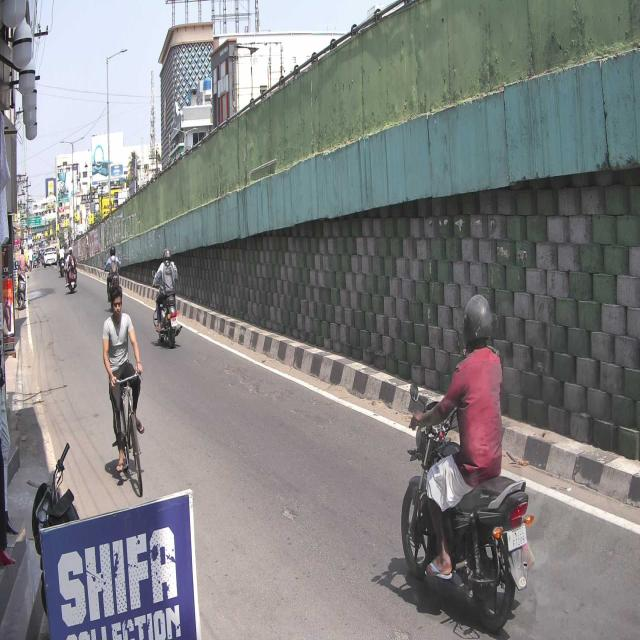single_rider: (400, 294, 532, 640)
